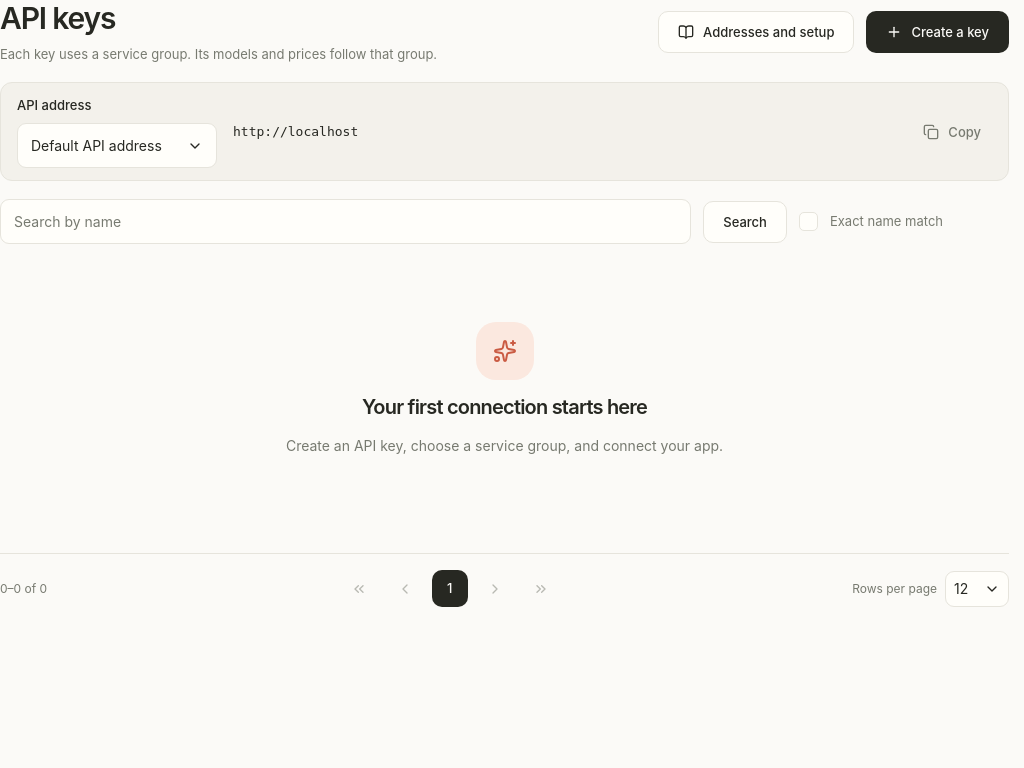
it: keeps the chat example on a placeholder until a model is explicitly chosen
Expected: the dropdown labelled "Chat model for this example" is not shown
Click the button "Addresses and setup" at [756, 32], box [658,11,854,53]
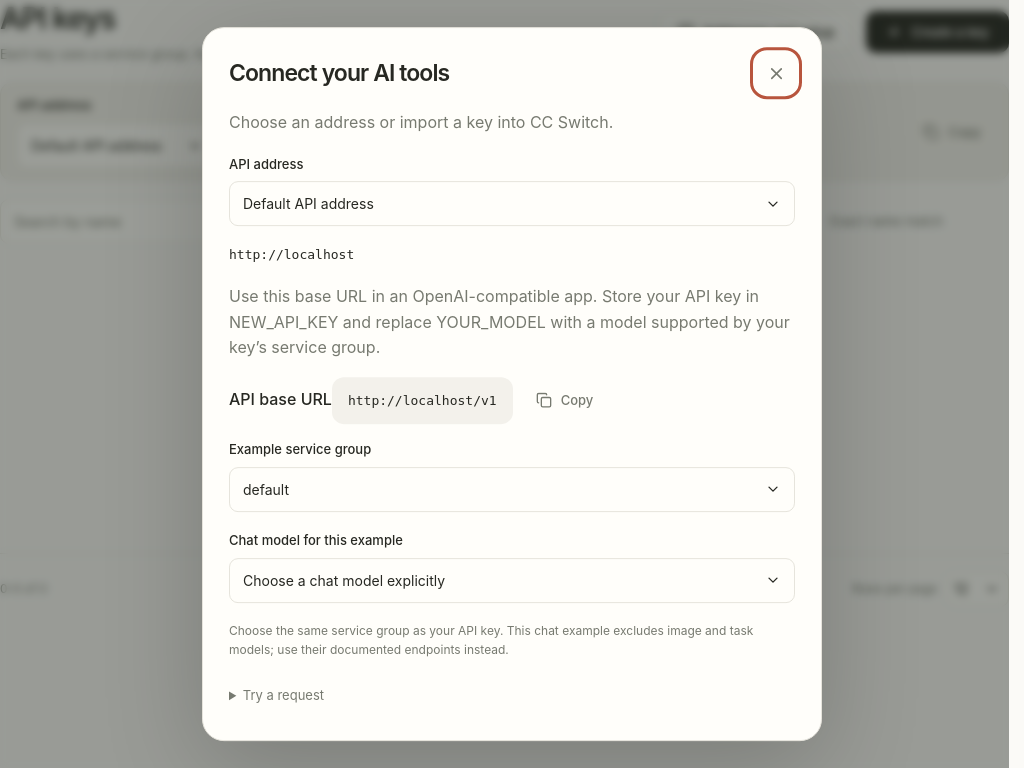
Now the dropdown named "Chat model for this example" is shown, box [229,558,795,603]
Click the heading "Try a request" at [283, 695], box [243,687,324,703]
(page scrolled)
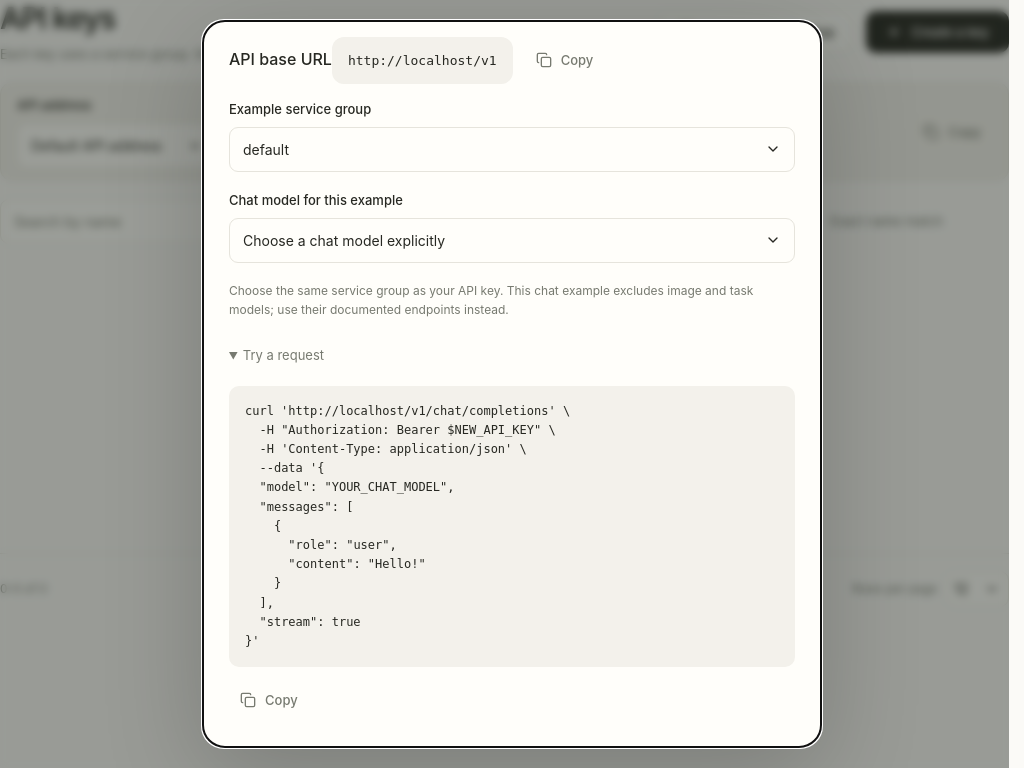
Now the text "\"model\": \"YOUR_CHAT_MODEL\"" is shown, box [245,404,570,648]
